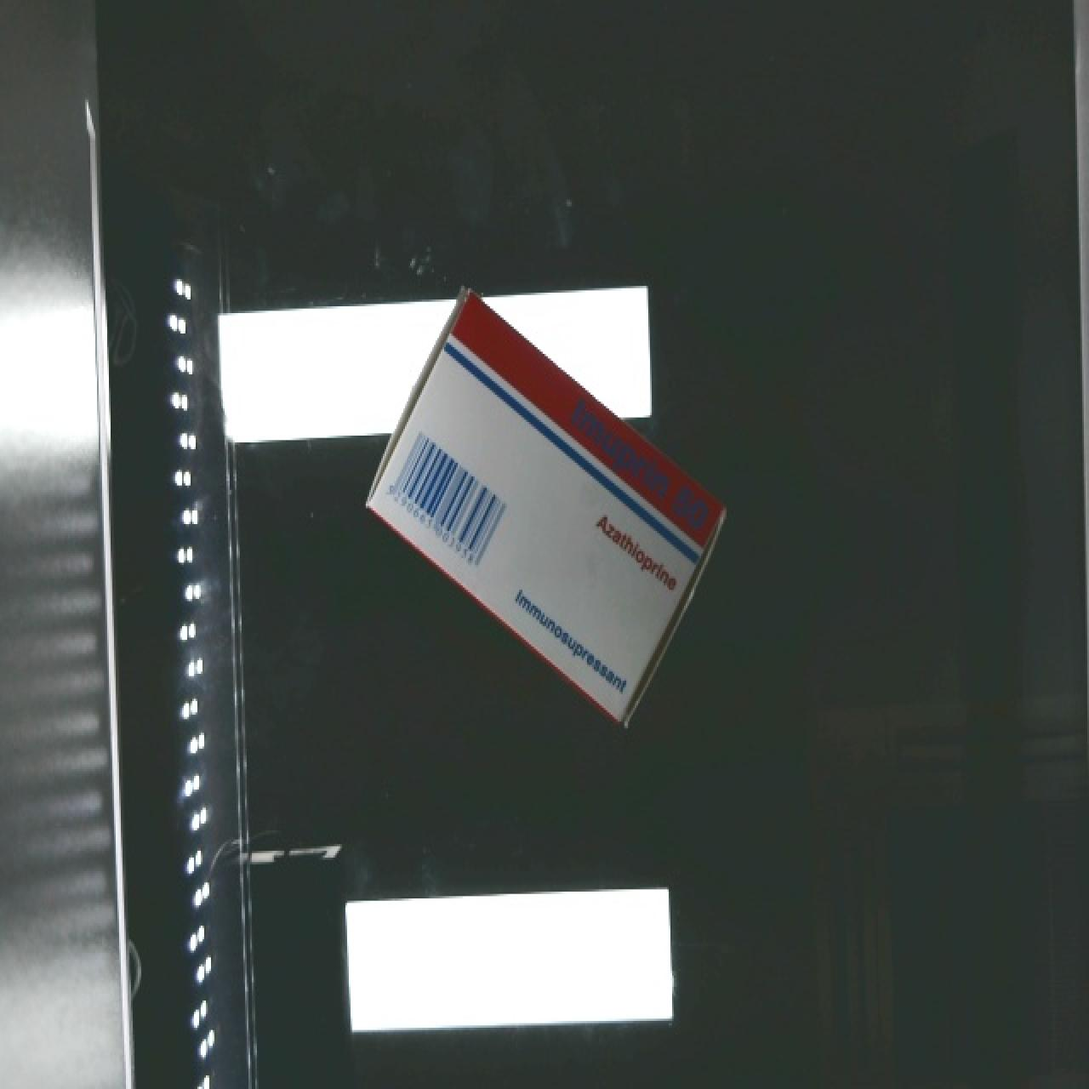medicine_label_obb: (539, 380, 738, 561)
